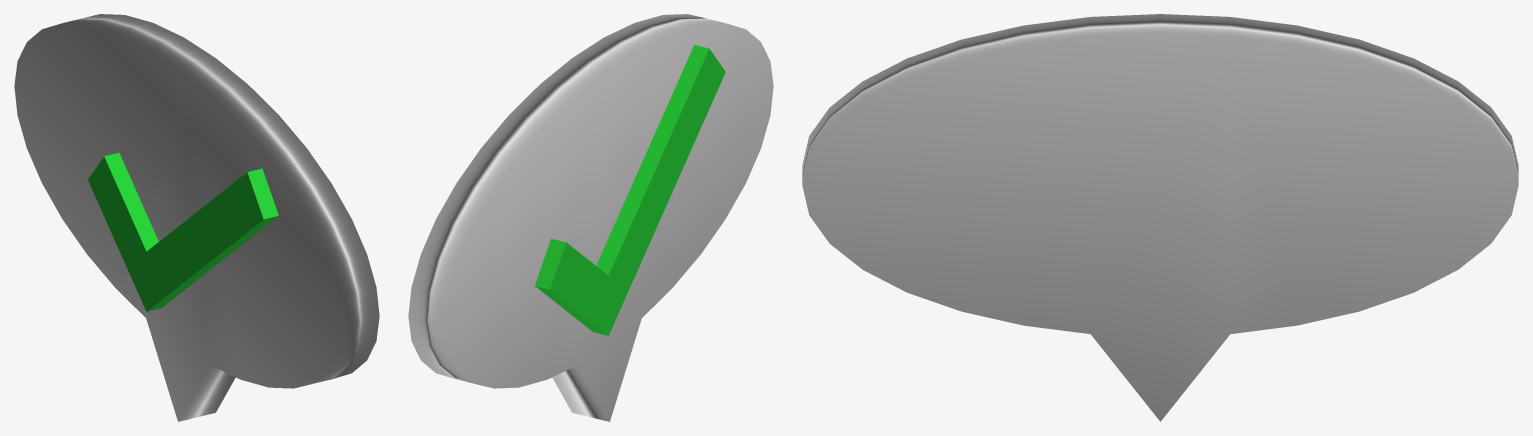
File: popup pos.fbx
3 renders of one model, left to right at view 1: azimuth 30°, elevation 25°; view 2: azimuth 150°, elevation 25°; view 3: azimuth 270°, elevation 25°, orthographic. The views are drawn at different scales.
Parts seen in each view (by area): view 1: Cylinder; view 2: Cylinder; view 3: Cylinder.
Part boxes in pixels (bbox=[...]): Cylinder: bbox=[14, 14, 379, 421]; Cylinder: bbox=[408, 14, 773, 421]; Cylinder: bbox=[802, 14, 1518, 421].
Bounding box in the file's own units: 28.02 × 179 × 300.
